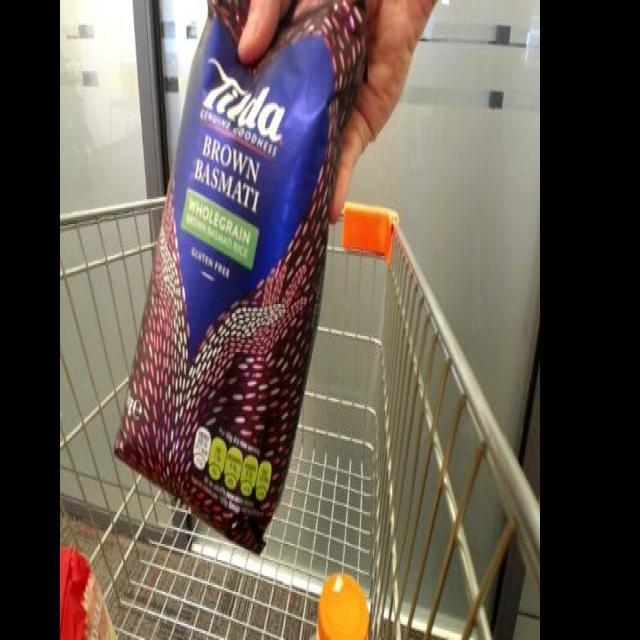Tida: (106, 2, 374, 556)
